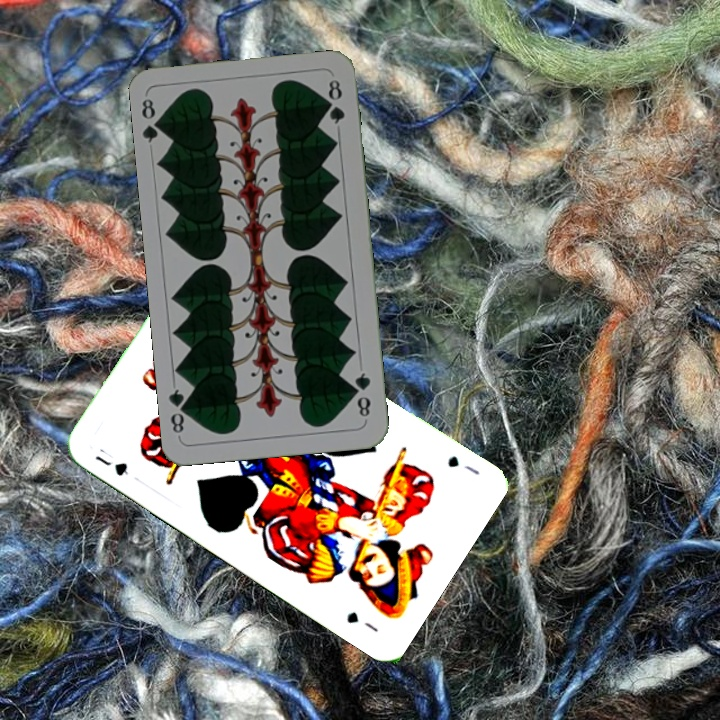G8: (137, 95, 167, 145), (349, 368, 374, 420)
GU: (91, 451, 132, 479), (443, 451, 482, 478)
